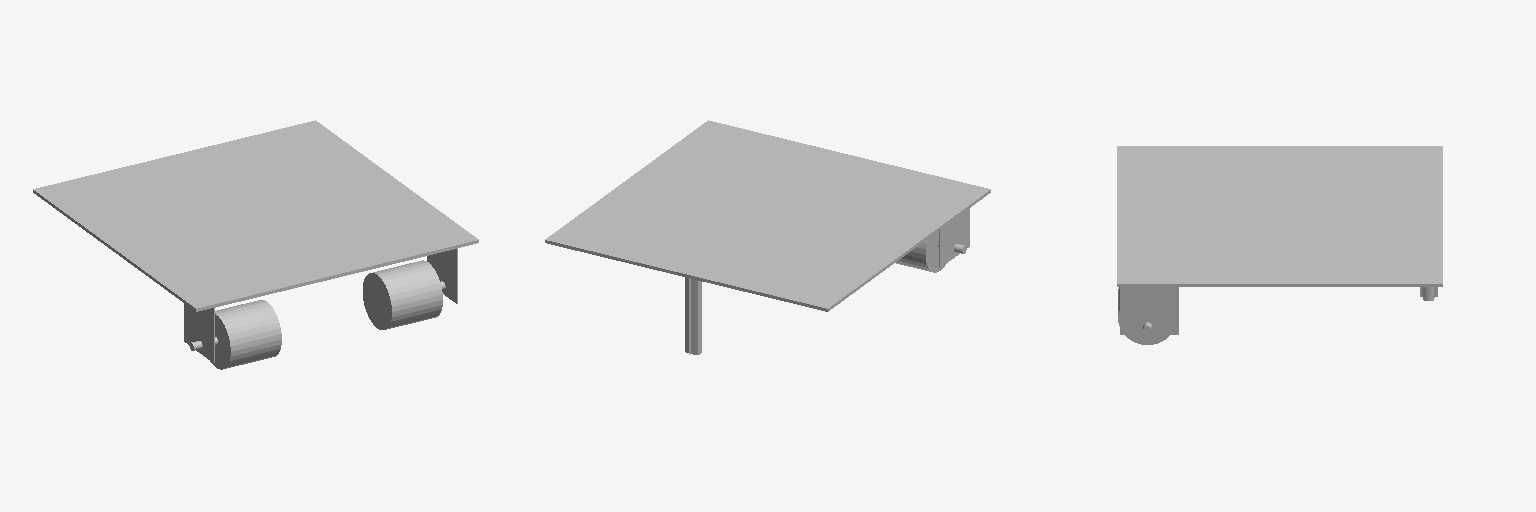
Rendered from Chassis_1.obj.
3 renders of one model, left to right at view 1: azimuth 30°, elevation 25°; view 2: azimuth 150°, elevation 25°; view 3: azimuth 270°, elevation 25°, orthographic.
Parts seen in each view (by area): view 1: Chassis_Plane; view 2: Chassis_Plane; view 3: Chassis_Plane.
Boxes of the visible parts, x1,y1,x2,y2 form: Chassis_Plane: [33, 120, 478, 369]; Chassis_Plane: [545, 120, 990, 354]; Chassis_Plane: [1117, 146, 1442, 344].
Bounding box in the file's own units: 27.66 × 7.74 × 27.66.